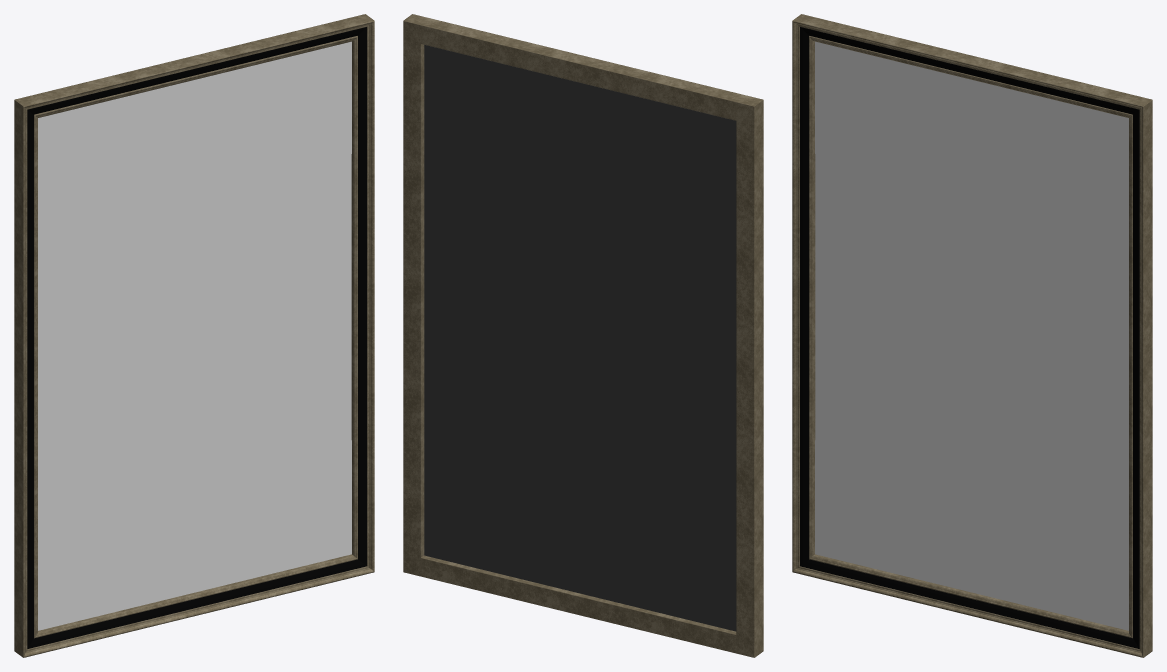
The model's file is espejo_luna.glb.
The picture shows the model from 3 angles, left to right: view 1: azimuth 30°, elevation 25°; view 2: azimuth 150°, elevation 25°; view 3: azimuth 330°, elevation 25°; orthographic projection.
Visible parts, largest first — view 1: Plane.006_1, Cube.009_0; view 2: Plane.007_2, Cube.009_0; view 3: Plane.006_1, Cube.009_0.
Part boxes in pixels (bbox=[...]): Plane.006_1: bbox=[38, 41, 351, 630]; Cube.009_0: bbox=[14, 14, 374, 657]; Plane.007_2: bbox=[424, 45, 736, 631]; Cube.009_0: bbox=[403, 14, 763, 657]; Plane.006_1: bbox=[815, 41, 1128, 630]; Cube.009_0: bbox=[792, 14, 1152, 657].
Size of the model in its own units: 0.8 by 1.2 by 0.0366.
Materials: 4 (1 with a texture image).
